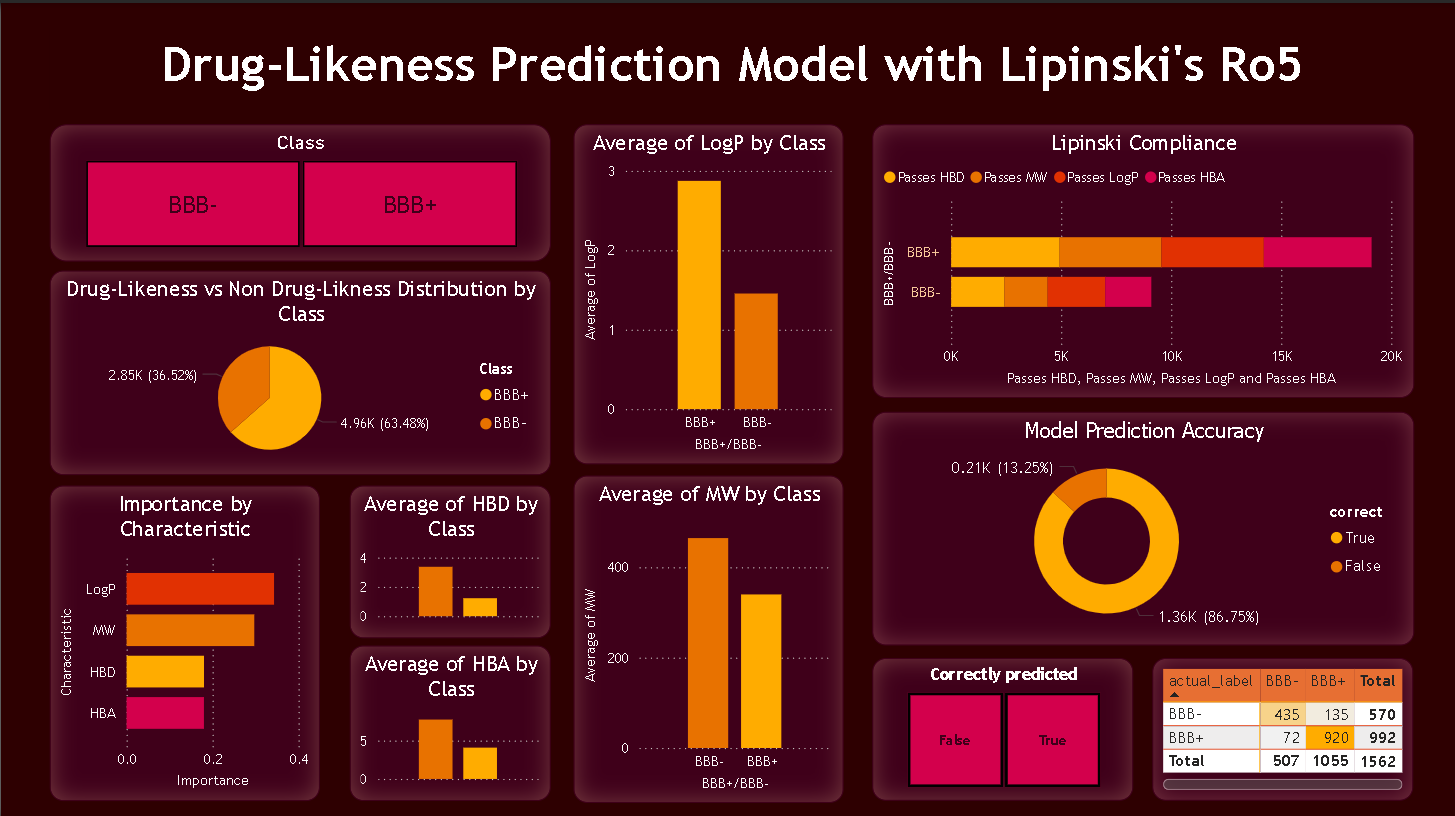

What the dashboard file says about the page in this screenshot:
{"tool":"powerbi","page":{"name":"Página 1","canvas":[1280,720],"ordinal":0},"visuals":[{"type":"pieChart","title":"Drug-Likeness vs Non Drug-Likness Distribution by  Class","fields":{"Category":["B3DB_clean.BBB+/BBB-"],"Y":["CountNonNull(B3DB_clean.BBB+/BBB-)"]},"box":[42.4,234.8,440.6,180.4],"z":0},{"type":"clusteredBarChart","fields":{"Category":["feature_importance.feature"],"Y":["Sum(feature_importance.importance)"]},"box":[42.4,424.9,237.3,277.2],"z":1000},{"type":"donutChart","title":"Model Prediction Accuracy","fields":{"Category":["ml_results.correct"],"Y":["CountNonNull(ml_results.correct)"]},"box":[766.2,359.5,476.9,205.8],"z":2000},{"type":"textbox","box":[42.4,21.8,1200.8,71.4],"z":3000},{"type":"barChart","title":"Lipinski Compliance ","fields":{"Category":["B3DB_clean.BBB+/BBB-"],"Y":["B3DB_clean.Passes HBD","B3DB_clean.Passes MW","B3DB_clean.Passes LogP","B3DB_clean.Passes HBA"]},"box":[766.2,106.5,476.9,240.9],"z":4000},{"type":"clusteredColumnChart","title":"Average of LogP by Class","fields":{"Category":["B3DB_clean.BBB+/BBB-"],"Y":["Avg(B3DB_clean.LogP)"]},"box":[503.6,106.5,237.3,299],"z":5000},{"type":"clusteredColumnChart","title":"Average of MW by Class","fields":{"Y":["Avg(B3DB_clean.MW)"],"Category":["B3DB_clean.BBB+/BBB-"]},"box":[503.6,415.2,237.3,288.1],"z":6000},{"type":"pivotTable","fields":{"Rows":["ml_results.actual_label"],"Columns":["ml_results.predicted_label"],"Values":["CountNonNull(ml_results.predicted_label)"]},"box":[1013.2,576.2,230,125.9],"z":7000},{"type":"slicer","title":"Class","fields":{"Values":["B3DB_clean.BBB+/BBB-"]},"box":[42.4,106.5,440.6,121],"z":8000},{"type":"slicer","title":"Correctly predicted","fields":{"Values":["ml_results.correct"]},"box":[766.2,576.2,230,125.9],"z":9000},{"type":"clusteredColumnChart","title":"Average of HBD by Class","fields":{"Category":["B3DB_clean.BBB+/BBB-"],"Y":["Avg(B3DB_clean.HBD)"]},"box":[306.3,424.9,176.7,134.4],"z":10000},{"type":"clusteredColumnChart","title":"Average of HBA by Class","fields":{"Category":["B3DB_clean.BBB+/BBB-"],"Y":["Avg(B3DB_clean.HBA)"]},"box":[306.3,565.3,176.7,136.8],"z":11000}]}

Visuals, with their boxes in screenshot pixels (x1, y1, x2, y2), scaled from the page's 1280x720 canvas onto the 1455x816 screenshot:
"Drug-Likeness vs Non Drug-Likness Distribution by  Class" pieChart: locate(48, 266, 549, 471)
clusteredBarChart - feature_importance.feature x Sum(feature_importance.importance): locate(48, 482, 318, 796)
"Model Prediction Accuracy" donutChart: locate(871, 407, 1413, 641)
textbox: locate(48, 25, 1413, 106)
"Lipinski Compliance " barChart: locate(871, 121, 1413, 394)
"Average of LogP by Class" clusteredColumnChart: locate(572, 121, 842, 460)
"Average of MW by Class" clusteredColumnChart: locate(572, 471, 842, 797)
pivotTable - ml_results.actual_label x ml_results.predicted_label: locate(1152, 653, 1413, 796)
"Class" slicer: locate(48, 121, 549, 258)
"Correctly predicted" slicer: locate(871, 653, 1132, 796)
"Average of HBD by Class" clusteredColumnChart: locate(348, 482, 549, 634)
"Average of HBA by Class" clusteredColumnChart: locate(348, 641, 549, 796)
